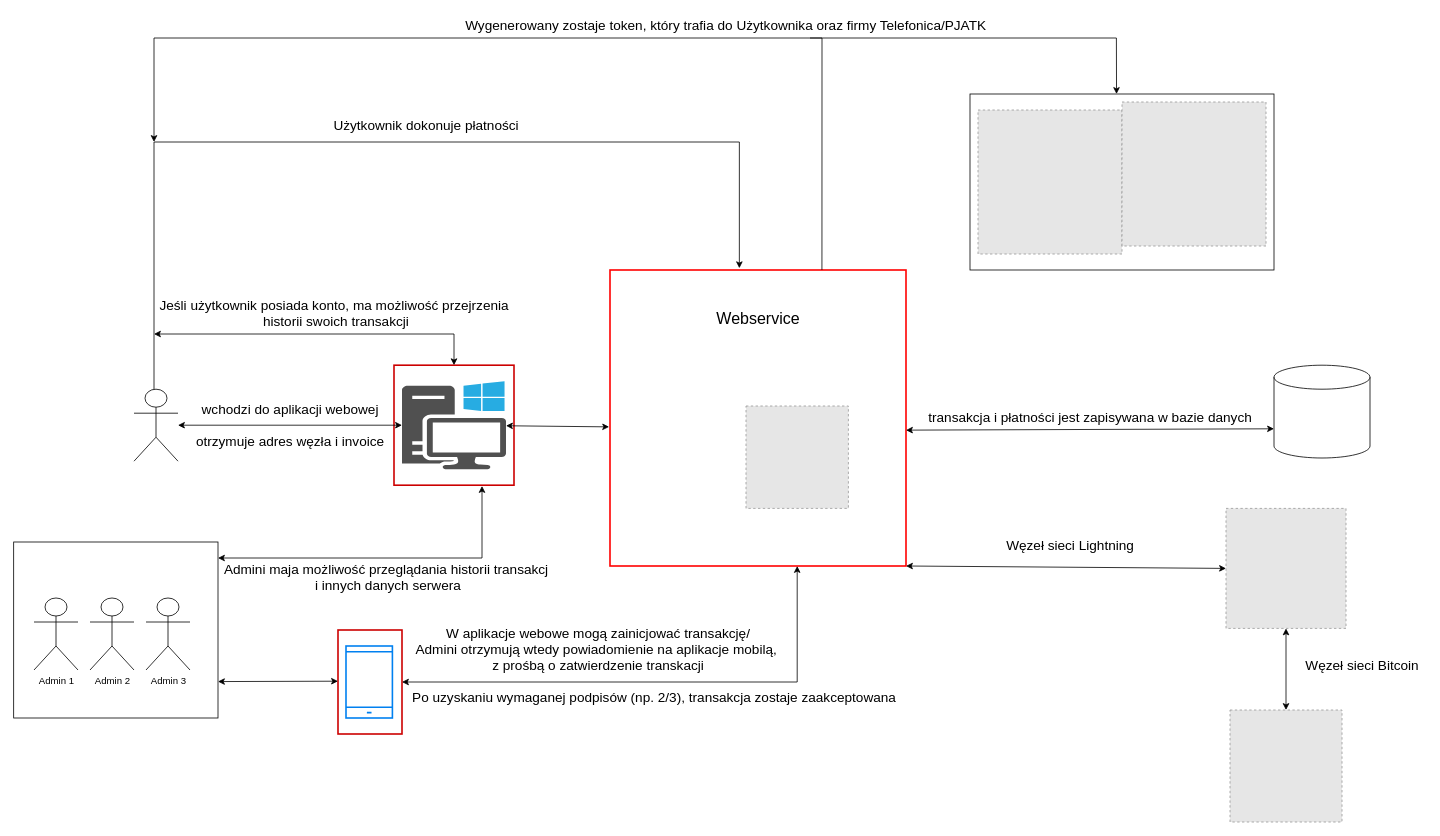
The diagram is 1440 pixels wide and 836 high, and some of its shapes have lost their labels. Grey dashed boxes stand in for pictures. Here are the shapes that lost their labels. From the top down, the centre of each, then its label:
At pixel 155 424: "Użytkownik".
At pixel 1321 411: "Baza danych".
